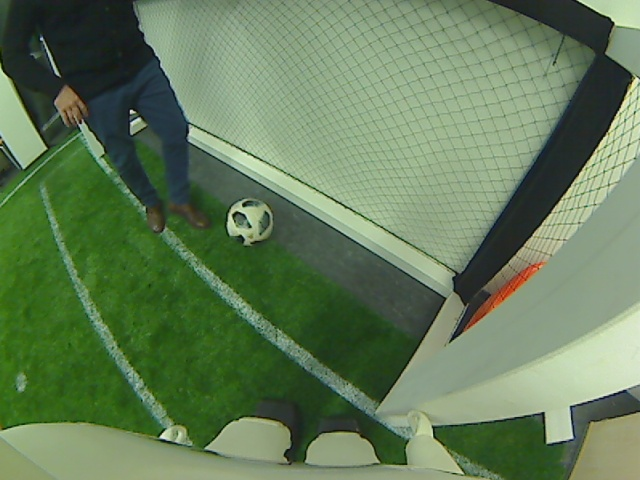ball: (223, 197, 274, 242)
